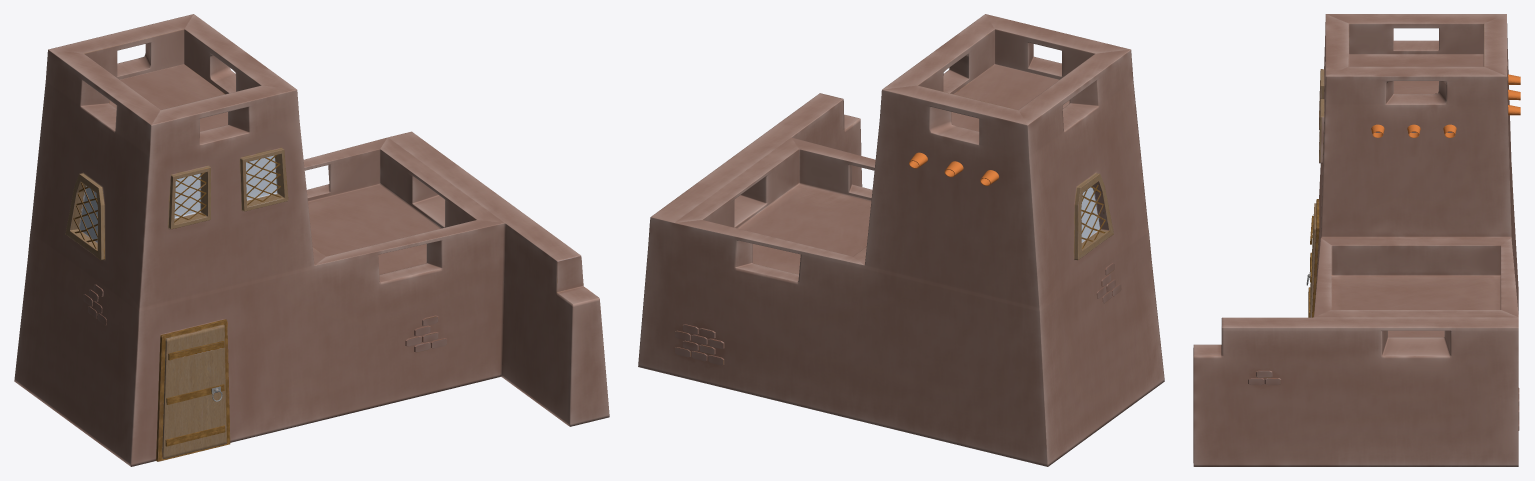
3 views of the same model, side by side, from view 1: azimuth 30°, elevation 25°; view 2: azimuth 150°, elevation 25°; view 3: azimuth 270°, elevation 25° (orthographic). The views are drawn at different scales.
Parts seen in each view (by area): view 1: DecorativeHouse3, Tablas, Cube.005; view 2: DecorativeHouse3, Cube.020, Desague.013; view 3: DecorativeHouse3, Desague.001, Desague.013, Cube.001.
Part boxes in pixels (left/top/right/bottom): DecorativeHouse3: left=14, top=14, right=609, bottom=466; Tablas: left=165, top=341, right=225, bottom=446; Cube.005: left=405, top=315, right=446, bottom=352; DecorativeHouse3: left=638, top=14, right=1164, bottom=466; Cube.020: left=675, top=324, right=724, bottom=365; Desague.013: left=909, top=152, right=998, bottom=185; DecorativeHouse3: left=1193, top=14, right=1518, bottom=466; Desague.001: left=1371, top=124, right=1456, bottom=137; Desague.013: left=1508, top=74, right=1520, bottom=115; Cube.001: left=1248, top=370, right=1281, bottom=385.
Size of the model in its own units: 9.72 by 7.49 by 7.67.
Materials: 2 (2 with a texture image).
